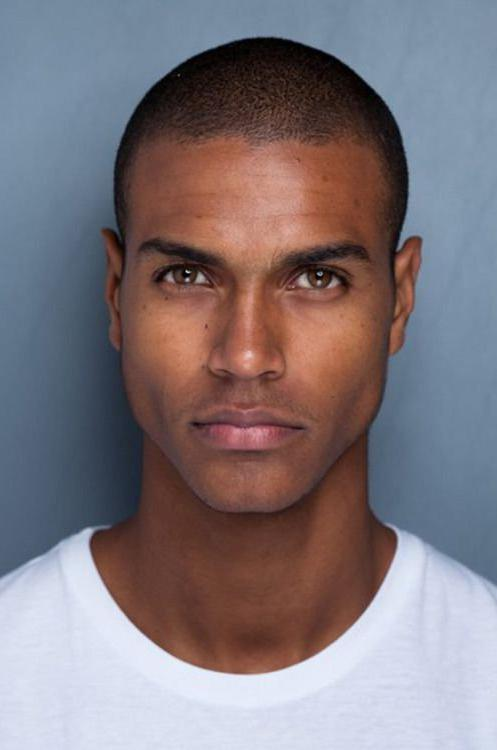Sober: (122, 134, 380, 503)
